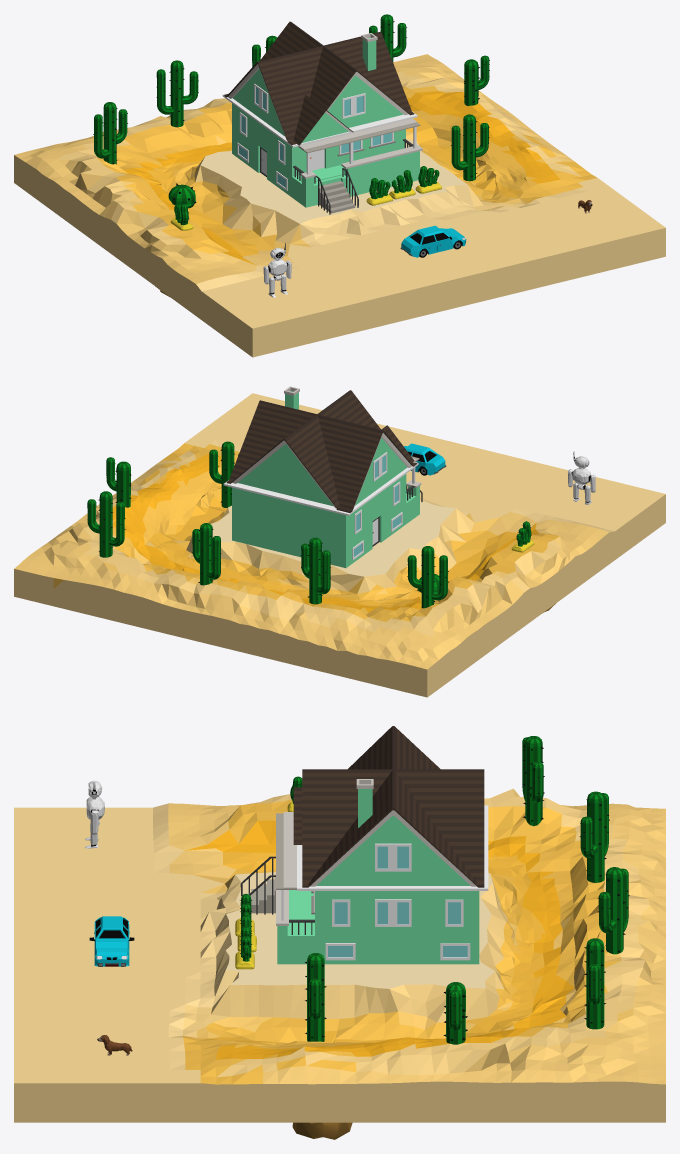
The picture shows the model from 3 angles, top to bottom: view 1: azimuth 30°, elevation 25°; view 2: azimuth 150°, elevation 25°; view 3: azimuth 270°, elevation 25°; orthographic projection. The views are drawn at different scales.
Visible parts, largest first — view 1: Cube.001, Cube.352, Cylinder.044, Cylinder.037, Cylinder.045, VEHICLES_CAR, Cylinder.038, OBJRANDOM_PLATZEEBOT, Cylinder.042, Cylinder.041, Cylinder.039, Sphere.023; view 2: Cube.001, Cube.352, Cylinder.042, Cylinder.045, Cylinder.044, Cylinder.043, Cylinder.037, Cylinder.038, OBJRANDOM_PLATZEEBOT, VEHICLES_CAR; view 3: Cube.001, Cube.352, Cylinder.043, Cylinder.044, VEHICLES_CAR, Cylinder.045, Cylinder.042, Cylinder.037, Cylinder.038, OBJRANDOM_PLATZEEBOT, UNDERGROUND_T_REX_BONES, Cylinder.041.
Boxes of the visible parts, x1=… form: Cube.001: x1=14, y1=54, x2=665, y2=357; Cube.352: x1=222, y1=21, x2=422, y2=214; Cylinder.044: x1=156, y1=60, x2=198, y2=127; Cylinder.037: x1=451, y1=114, x2=489, y2=181; Cylinder.045: x1=93, y1=102, x2=127, y2=164; VEHICLES_CAR: x1=400, y1=225, x2=466, y2=257; Cylinder.038: x1=464, y1=55, x2=489, y2=105; OBJRANDOM_PLATZEEBOT: x1=263, y1=243, x2=291, y2=297; Cylinder.042: x1=369, y1=14, x2=406, y2=62; Cylinder.041: x1=415, y1=166, x2=441, y2=193; Cylinder.039: x1=366, y1=178, x2=392, y2=205; Sphere.023: x1=168, y1=183, x2=196, y2=208; Cube.001: x1=14, y1=393, x2=665, y2=697; Cube.352: x1=223, y1=386, x2=422, y2=568; Cylinder.042: x1=87, y1=491, x2=125, y2=557; Cylinder.045: x1=407, y1=546, x2=448, y2=608; Cylinder.044: x1=301, y1=537, x2=330, y2=604; Cylinder.043: x1=192, y1=523, x2=221, y2=585; Cylinder.037: x1=209, y1=441, x2=238, y2=507; Cylinder.038: x1=106, y1=457, x2=131, y2=507; OBJRANDOM_PLATZEEBOT: x1=568, y1=451, x2=595, y2=504; VEHICLES_CAR: x1=404, y1=443, x2=446, y2=475; Cube.001: x1=14, y1=788, x2=665, y2=1122; Cube.352: x1=240, y1=726, x2=488, y2=964; Cylinder.043: x1=597, y1=867, x2=629, y2=954; Cylinder.044: x1=579, y1=791, x2=609, y2=882; VEHICLES_CAR: x1=89, y1=916, x2=134, y2=966; Cylinder.045: x1=522, y1=736, x2=544, y2=826; Cylinder.042: x1=584, y1=938, x2=605, y2=1029; Cylinder.037: x1=305, y1=953, x2=326, y2=1041; Cylinder.038: x1=443, y1=982, x2=467, y2=1044; OBJRANDOM_PLATZEEBOT: x1=84, y1=780, x2=104, y2=848; UNDERGROUND_T_REX_BONES: x1=292, y1=1122, x2=352, y2=1139; Cylinder.041: x1=235, y1=926, x2=254, y2=969.
Bounding box in the file's own units: 4002 × 1740 × 4001.
Materials: 34 (2 with a texture image).
